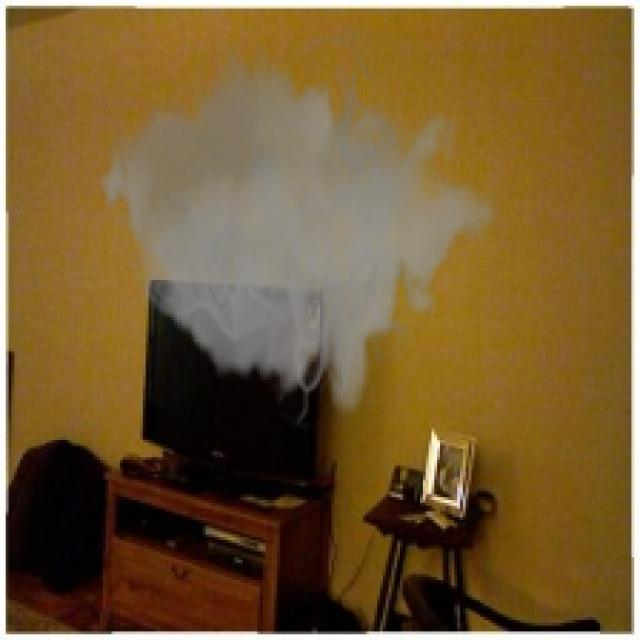smoke: (97, 17, 500, 432)
